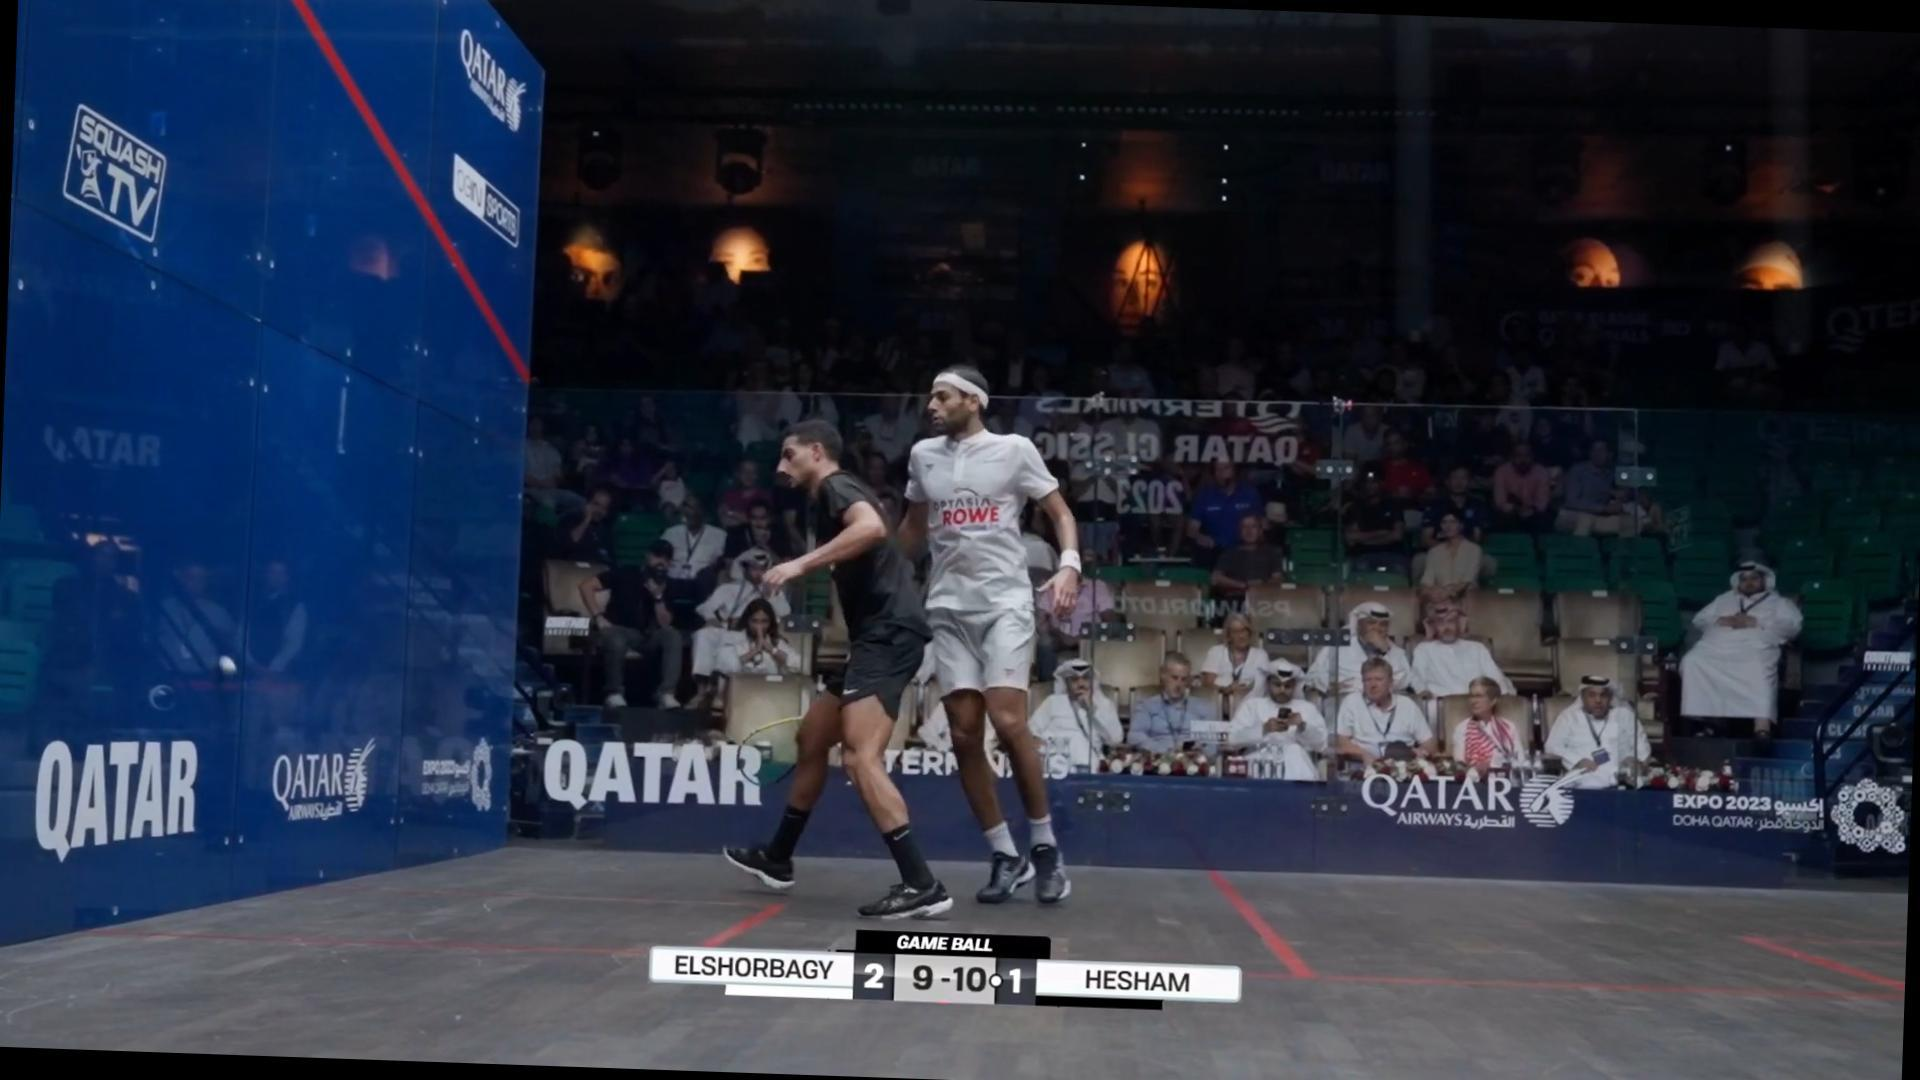Squash-Ball: (207, 642, 252, 690)
